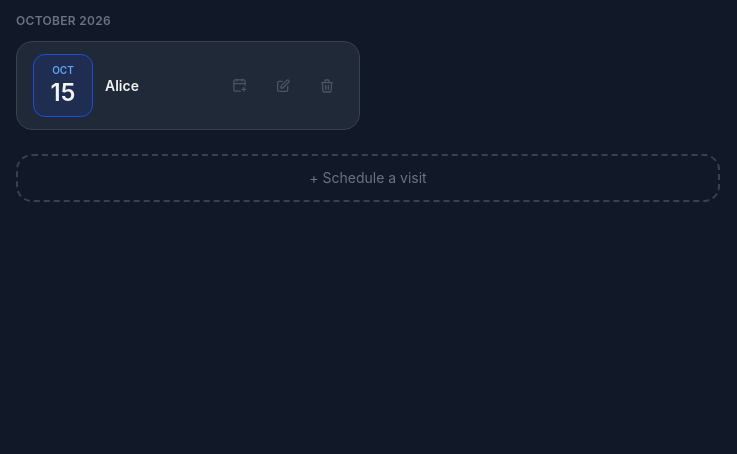
Test: VisitorsPage › edit button opens an inline form pre-populated with the slot values
Check: the text "Alice" is shown, box [105,77,139,94]
Click the button named "Edit Alice". click: (283, 86)
box: [267,70,299,102]
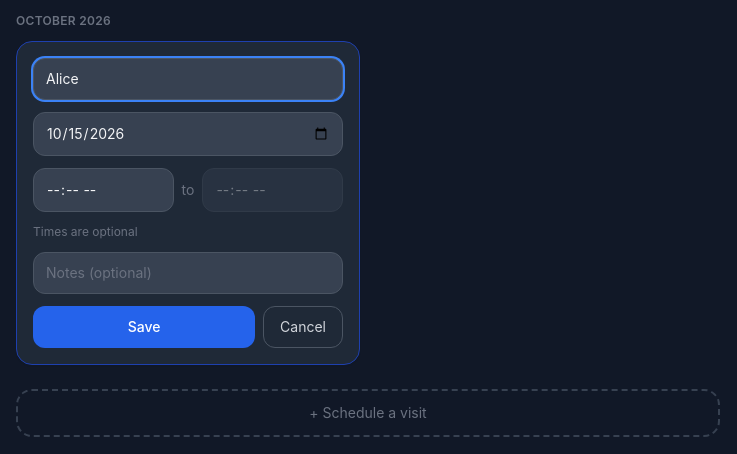
Check: the field showing "Alice" is shown, box [33,58,343,100]
Check: the date field showing "2026-10-15" is shown, box [33,112,343,156]
